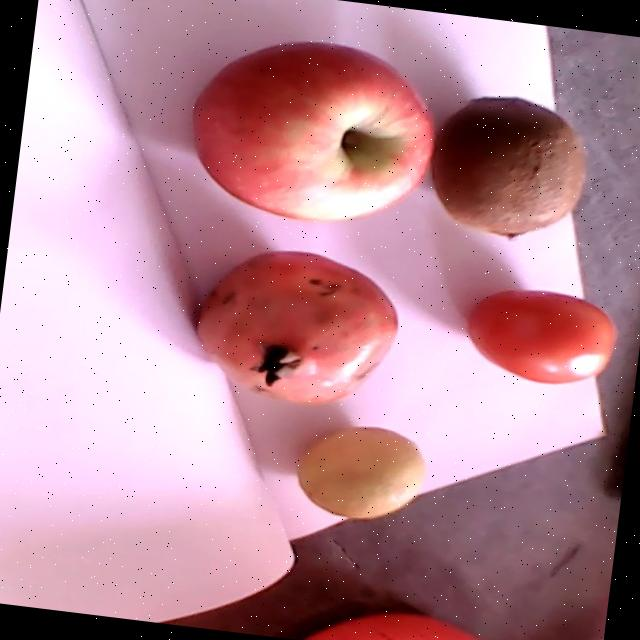apple: (192, 40, 435, 223)
kiwi: (430, 96, 583, 239)
lemon: (295, 426, 426, 518)
pomegranate: (197, 251, 396, 407)
tomato: (467, 288, 616, 384)
